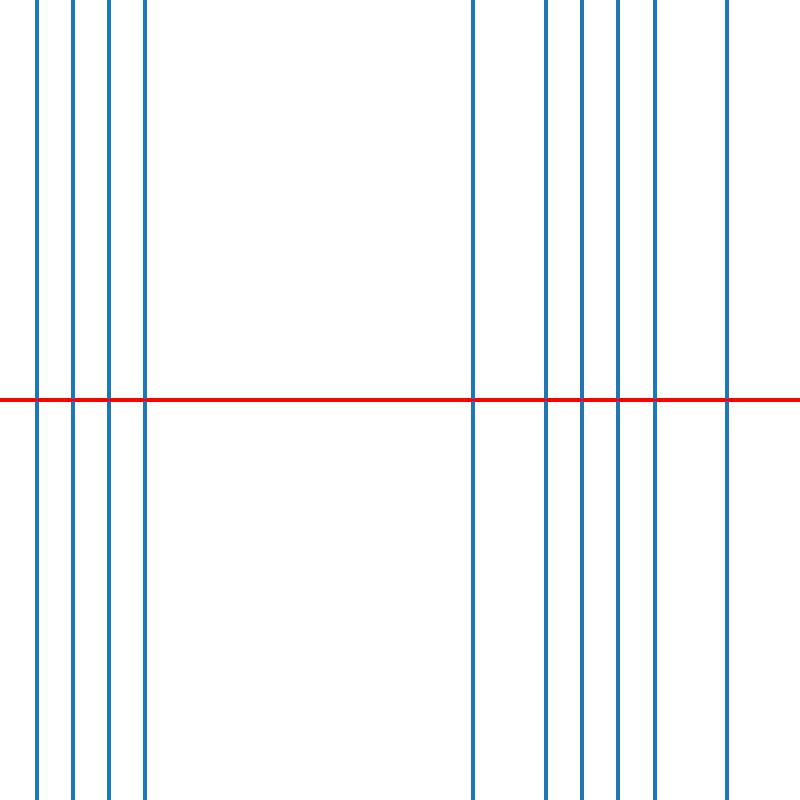root: (141, 396, 149, 404), (541, 396, 549, 404), (32, 396, 40, 404), (650, 396, 658, 404), (578, 396, 585, 404), (614, 396, 621, 404), (469, 396, 476, 404), (723, 396, 730, 404), (105, 396, 112, 404), (69, 396, 76, 404)
